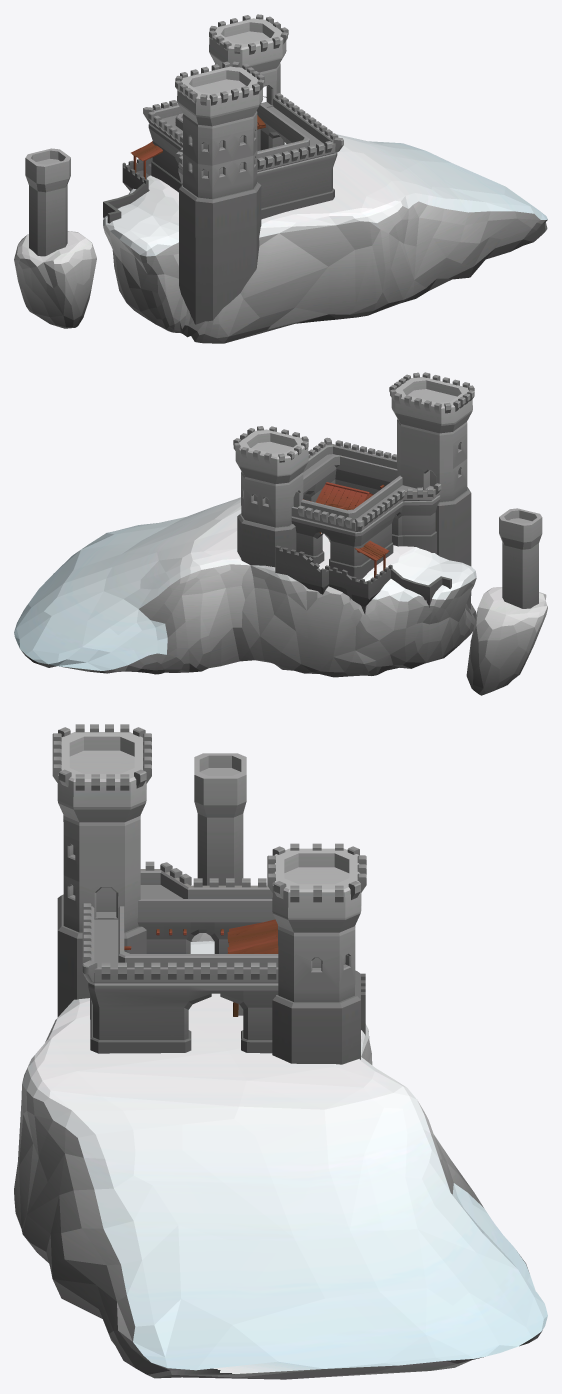
The picture shows the model from 3 angles, top to bottom: view 1: azimuth 30°, elevation 25°; view 2: azimuth 150°, elevation 25°; view 3: azimuth 270°, elevation 25°; orthographic projection. The views are drawn at different scales.
Visible parts, largest first — view 1: CastleCliff; view 2: CastleCliff; view 3: CastleCliff.
Part boxes in pixels (box(x1,y1,x2,y2)): CastleCliff: box(14, 14, 547, 343); CastleCliff: box(14, 372, 547, 695); CastleCliff: box(14, 724, 547, 1379).
Bounding box in the file's own units: 137 × 65.04 × 82.38.
Materials: 1 (1 with a texture image).
